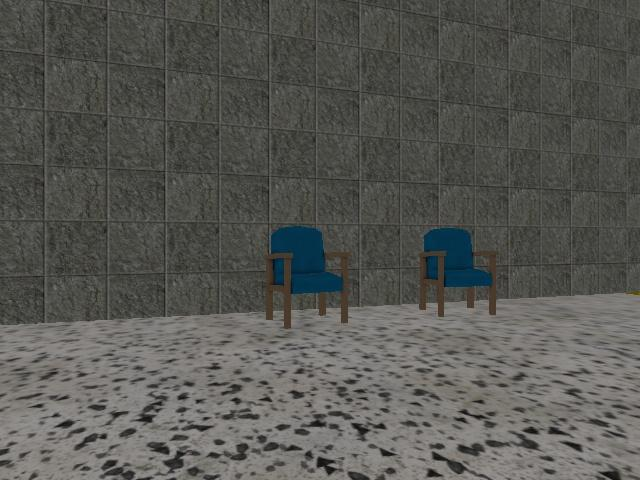chair: (264, 226, 350, 328), (419, 228, 500, 317)
